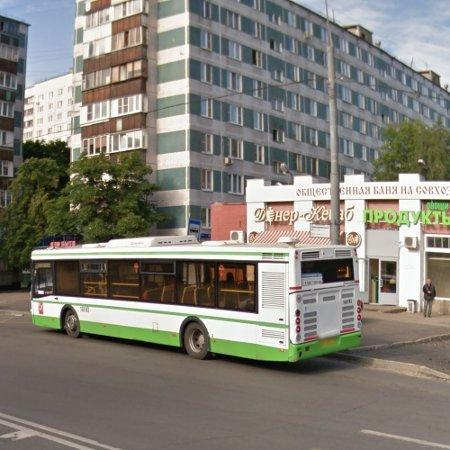buses: (31, 236, 363, 363)
